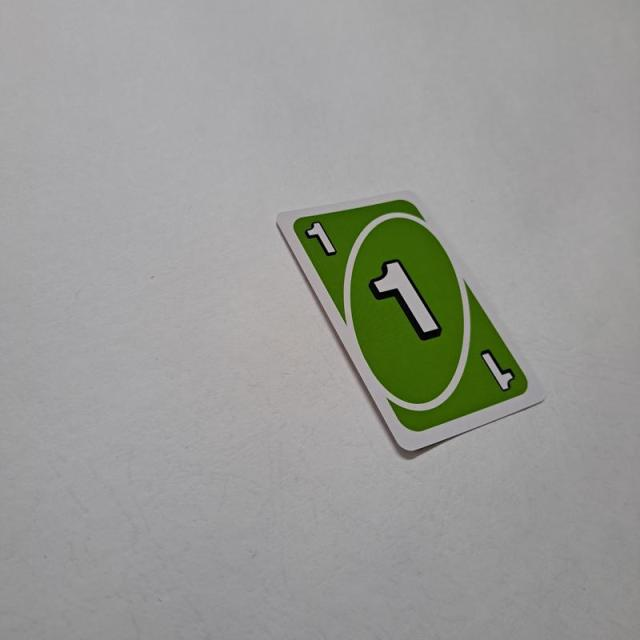Green_Card: (289, 196, 532, 436)
Number_1: (303, 210, 341, 266)
